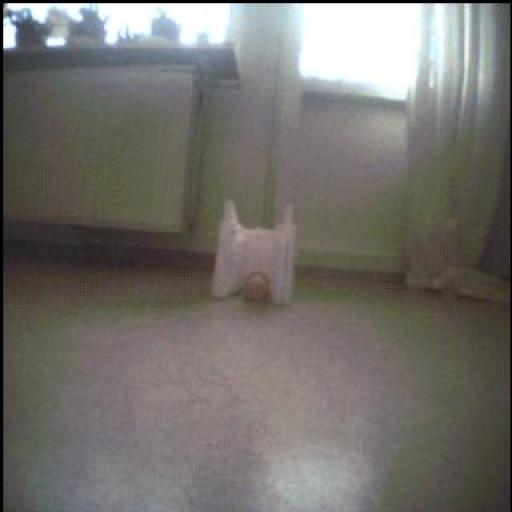Basket: (242, 274, 276, 305)
